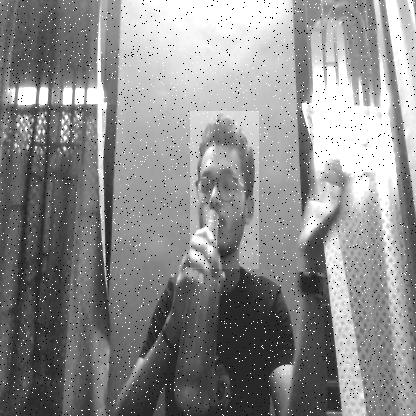Distracted: (190, 111, 259, 269)
